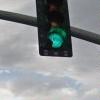traffic lights: (34, 0, 74, 58)
